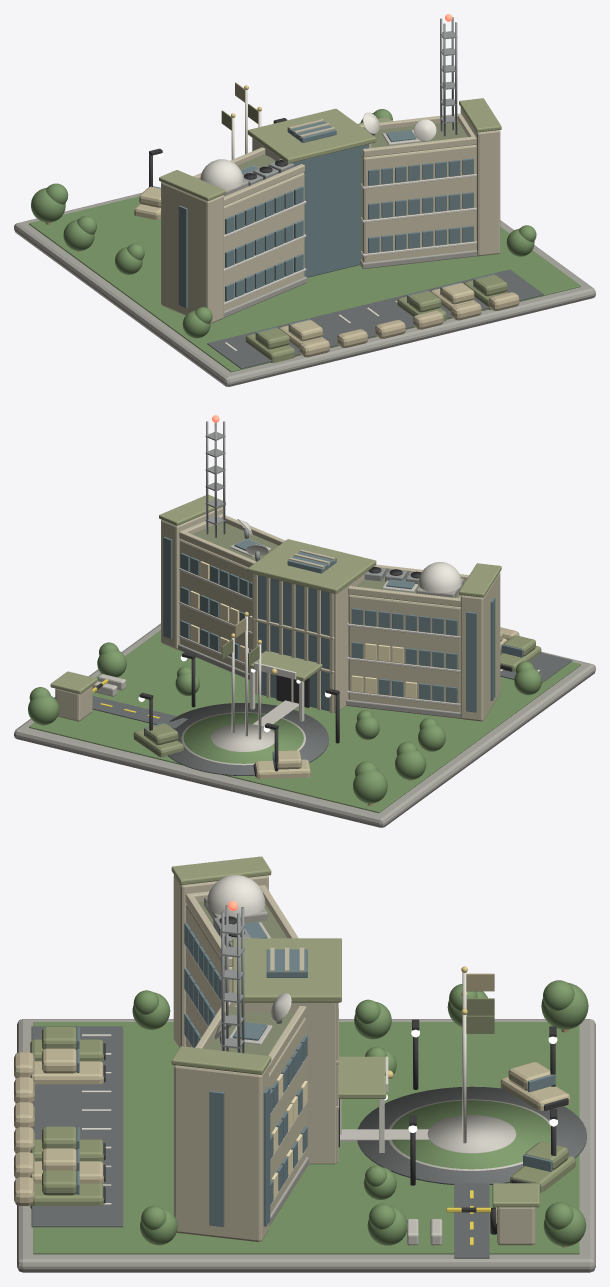
3 views of the same model, one above another, from view 1: azimuth 30°, elevation 25°; view 2: azimuth 150°, elevation 25°; view 3: azimuth 270°, elevation 25° (orthographic). The views are drawn at different scales.
Visible parts, largest first — view 1: Cube.001, Cube, Cube.022, Cube.158, Cube.142, Cube.085, Cube.002, Cube.170, Cube.079, Cube.076, Cube.143, Cube.145 (+18 smaller); view 2: Cube.001, Cube, Cube.085, Cube.158, Cube.022, Cube.142, Cube.170, Cylinder, Cylinder.002, Cube.168, Cube.079, Cylinder.003 (+26 smaller); view 3: Cube.001, Cube, Cube.079, Cube.002, Cylinder, Cylinder.002, Cube.170, Cube.169, Cylinder.003, Cube.022, Cube.013, Cube.142 (+44 smaller).
Boxes of the visible parts, <box> form: Cube.001: <box>29,196,580,372</box>; Cube: <box>14,193,595,386</box>; Cube.022: <box>361,145,476,262</box>; Cube.158: <box>291,144,368,277</box>; Cube.142: <box>161,182,223,323</box>; Cube.085: <box>224,172,304,311</box>; Cube.002: <box>207,269,543,368</box>; Cube.170: <box>247,108,376,163</box>; Cube.079: <box>460,107,500,256</box>; Cube.076: <box>362,136,476,157</box>; Cube.143: <box>159,170,225,201</box>; Cube.145: <box>178,205,187,308</box>; Cube.001: <box>29,630,580,812</box>; Cube: <box>14,623,595,827</box>; Cube.085: <box>348,594,460,712</box>; Cube.158: <box>258,575,329,711</box>; Cube.022: <box>179,539,252,673</box>; Cube.142: <box>460,572,500,721</box>; Cube.170: <box>247,539,376,593</box>; Cylinder: <box>167,703,328,775</box>; Cylinder.002: <box>183,713,303,763</box>; Cube.168: <box>333,571,367,712</box>; Cube.079: <box>161,507,222,649</box>; Cylinder.003: <box>211,724,274,751</box>; Cube.001: <box>33,1022,579,1254</box>; Cube: <box>17,1019,595,1272</box>; Cube.079: <box>173,1065,268,1241</box>; Cube.002: <box>31,1026,123,1227</box>; Cylinder: <box>357,1086,586,1184</box>; Cylinder.002: <box>392,1100,550,1169</box>; Cube.170: <box>232,938,341,1002</box>; Cube.169: <box>240,1002,335,1164</box>; Cylinder.003: <box>427,1115,516,1153</box>; Cube.022: <box>269,1017,305,1213</box>; Cube.013: <box>454,1183,489,1258</box>; Cube.142: <box>173,875,268,1047</box>.
Size of the model in its own units: 3.92 by 2.45 by 3.94.
